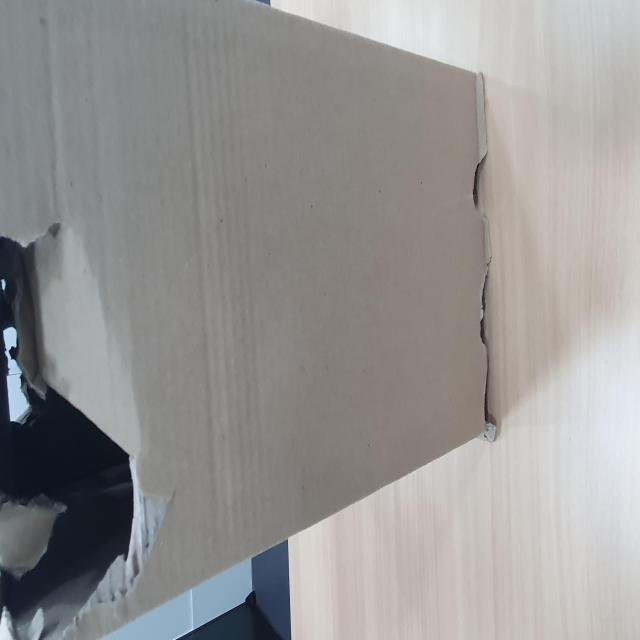damaged: (0, 1, 242, 251)
